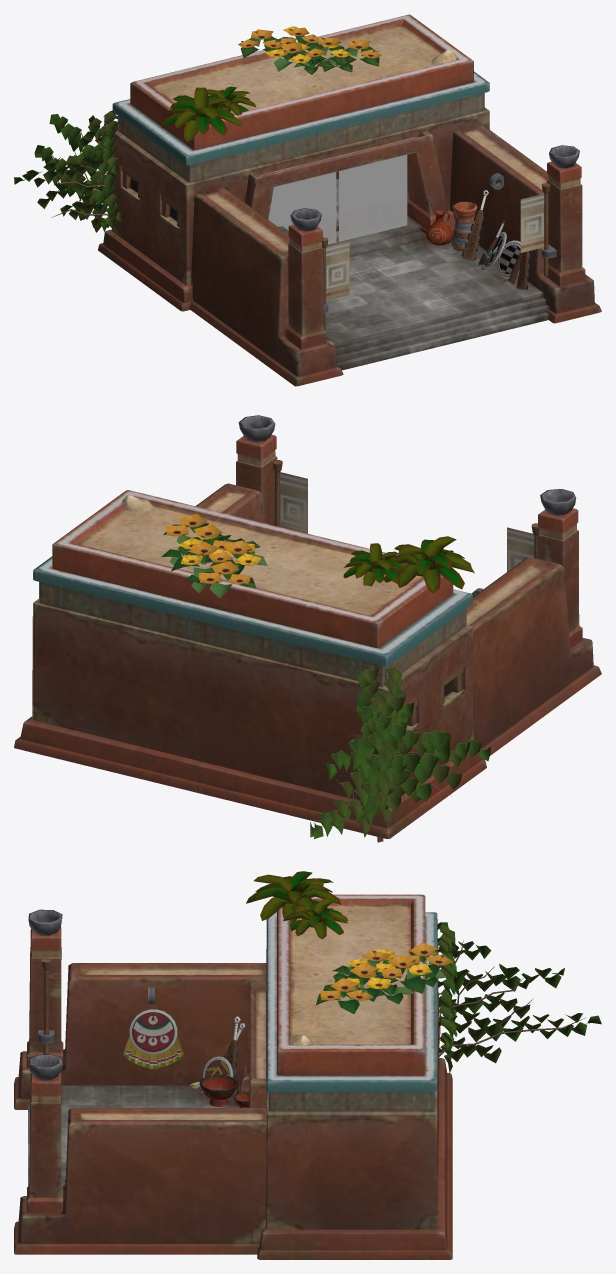
File: 74-warhut.glb
3 views of the same model, one above another, from view 1: azimuth 30°, elevation 25°; view 2: azimuth 150°, elevation 25°; view 3: azimuth 270°, elevation 25° (orthographic). The views are drawn at different scales.
Size of the model in its own units: 9.69 by 4.65 by 10.54.
Materials: 13 (13 with a texture image).
